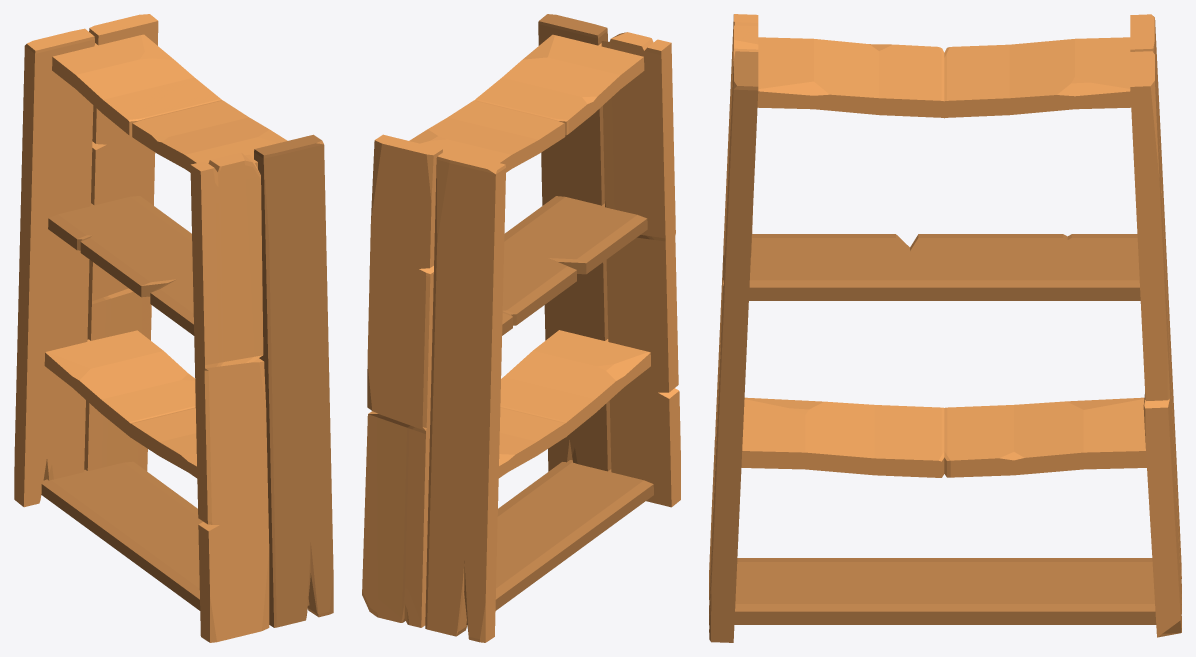
Rendered from Low Poly Wood Shelf No Back.fbx.
3 views of the same model, side by side, from view 1: azimuth 30°, elevation 25°; view 2: azimuth 150°, elevation 25°; view 3: azimuth 270°, elevation 25° (orthographic). The views are drawn at different scales.
Visible parts, largest first — view 1: Wood Shelf No Back; view 2: Wood Shelf No Back; view 3: Wood Shelf No Back.
Boxes of the visible parts, x1,y1,x2,y2 form: Wood Shelf No Back: [14, 14, 333, 642]; Wood Shelf No Back: [362, 14, 680, 642]; Wood Shelf No Back: [709, 14, 1181, 642].
Size of the model in its own units: 63.28 by 228 by 176.
